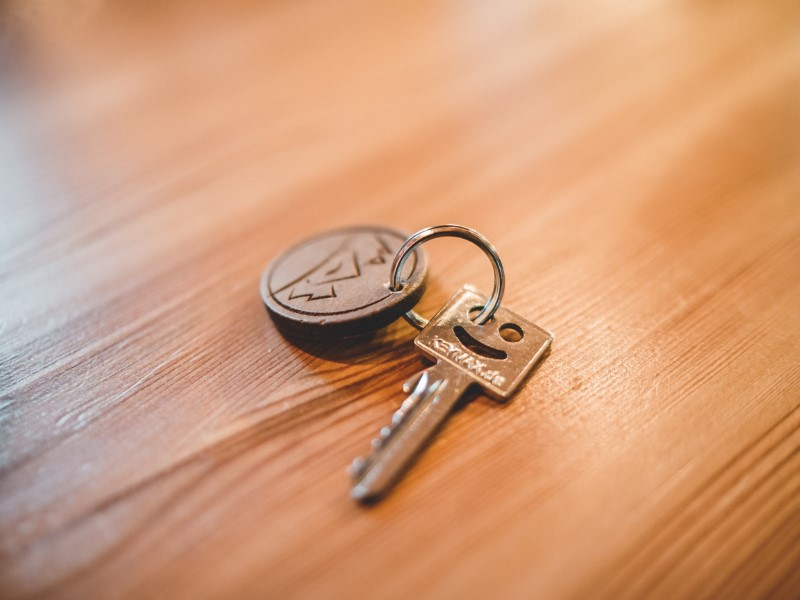key: (347, 279, 553, 515)
